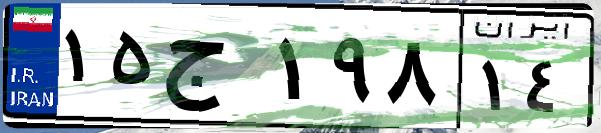1: (270, 28, 330, 110), (57, 26, 110, 100), (475, 38, 525, 113)
4: (525, 38, 570, 115)
5: (110, 28, 158, 98)
8: (385, 28, 445, 110)
9: (330, 28, 385, 110)
ج: (158, 20, 270, 120)
